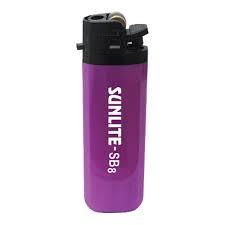lighter: (82, 13, 148, 213)
